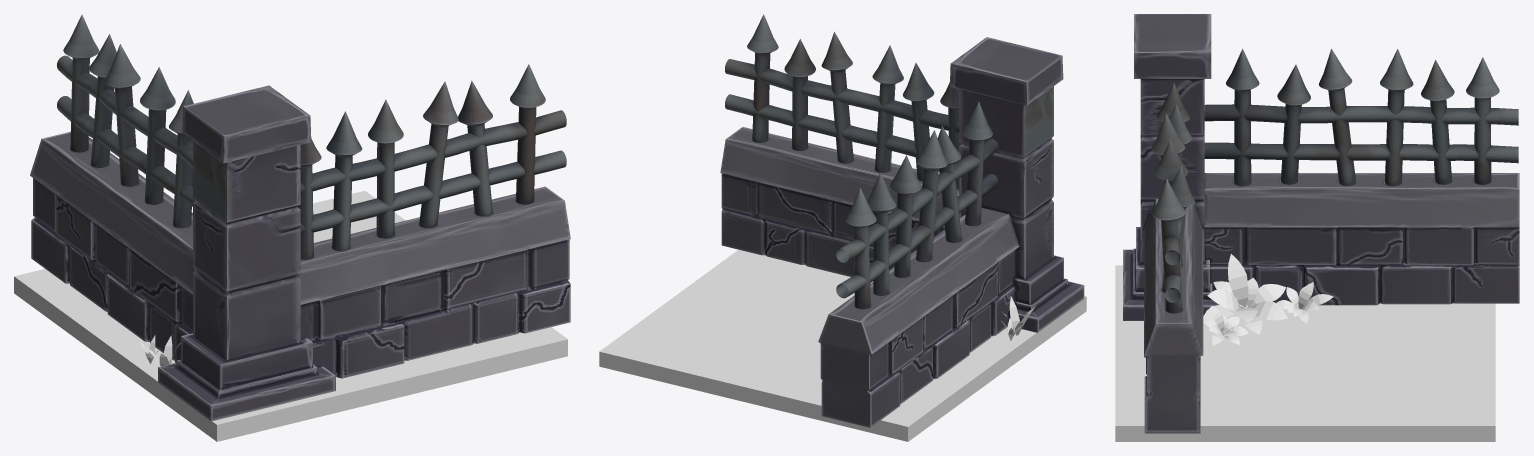
Rendered from GraveyardFenceBLCorner_New 1.fbx.
The picture shows the model from 3 angles, left to right: view 1: azimuth 30°, elevation 25°; view 2: azimuth 150°, elevation 25°; view 3: azimuth 270°, elevation 25°; orthographic projection. The views are drawn at different scales.
Visible parts, largest first — view 1: StoneFenceCorner_LP.006, NewFenceLeft.002; view 2: StoneFenceCorner_LP.006, NewFenceLeft.002, CornerGround_LP.026; view 3: StoneFenceCorner_LP.006, NewFenceLeft.002, CornerGround_LP.026.
Boxes of the visible parts, x1,y1,x2,y2 form: StoneFenceCorner_LP.006: [30, 14, 570, 421]; NewFenceLeft.002: [14, 191, 567, 441]; StoneFenceCorner_LP.006: [720, 14, 1084, 427]; NewFenceLeft.002: [599, 249, 1086, 441]; CornerGround_LP.026: [871, 281, 1035, 341]; StoneFenceCorner_LP.006: [1123, 14, 1519, 433]; NewFenceLeft.002: [1115, 265, 1495, 441]; CornerGround_LP.026: [1203, 254, 1333, 345].
Size of the model in its own units: 220 by 164 by 218.
